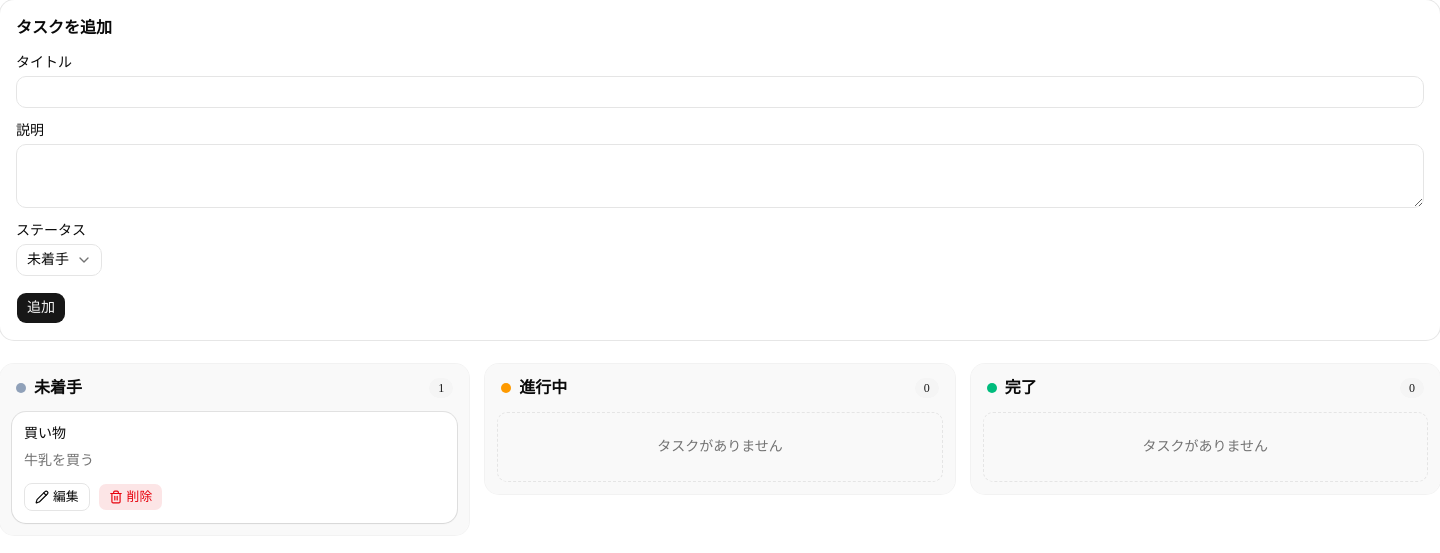
Scenario: 削除 › 編集中のタスクを削除すると、編集フォームが追加フォームに戻る
Expected: the element "未着手" is shown, [0,364,469,535]
Click the button with aria-label "買い物を編集" at (57, 497), box [24,483,90,511]
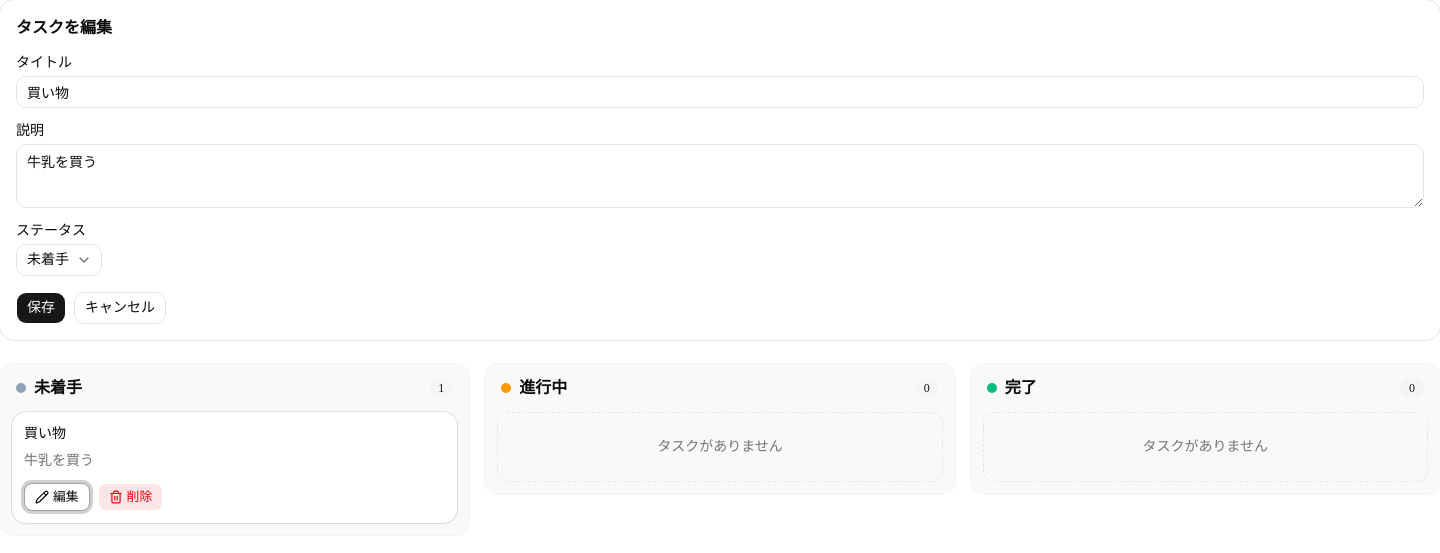
Click the button with aria-label "買い物を削除" at (130, 497), box [98,483,163,511]
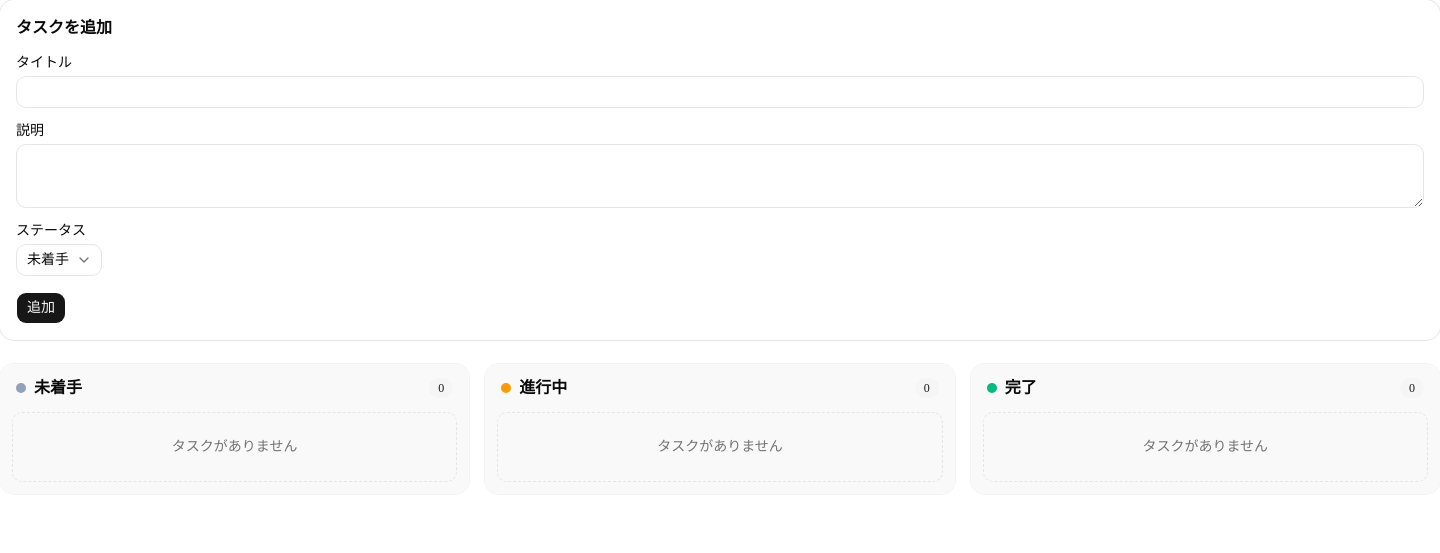
Result: the button "追加" is shown at [16,292,66,324]
Result: the button "保存" is gone
